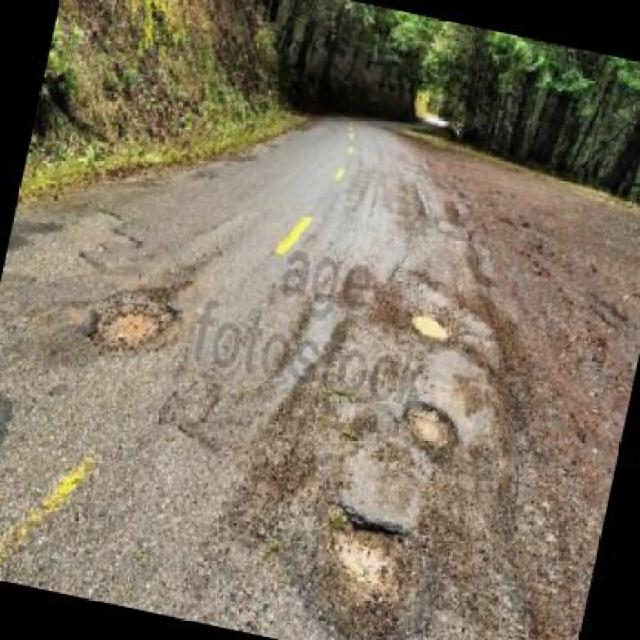pothole: (310, 500, 422, 606), (80, 281, 186, 362), (394, 394, 464, 466), (406, 304, 460, 345)
